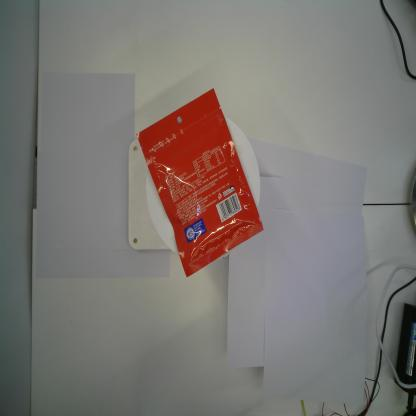Dried Fruit: (136, 87, 264, 279)
